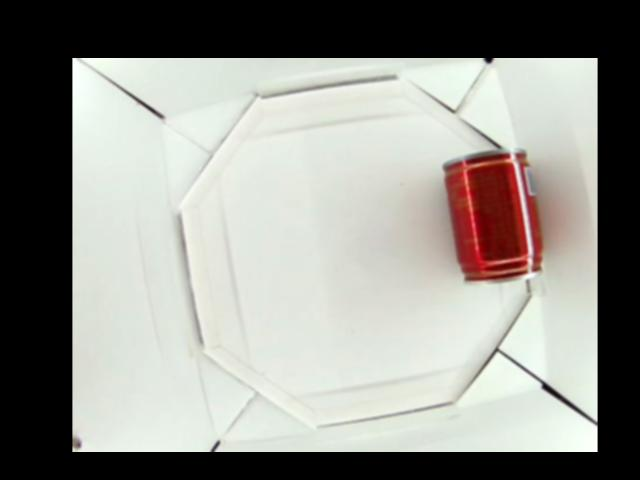Bottle: (442, 149, 542, 287)
